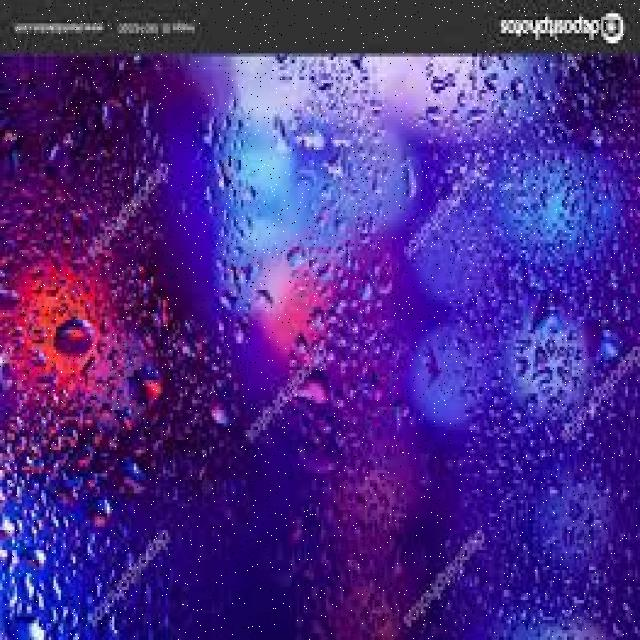raindrop: (278, 358, 333, 412), (519, 283, 563, 350), (50, 313, 94, 365), (126, 360, 166, 416), (113, 448, 152, 504), (590, 318, 626, 369), (78, 490, 112, 543), (202, 396, 244, 436), (578, 118, 610, 160), (0, 617, 46, 640)
